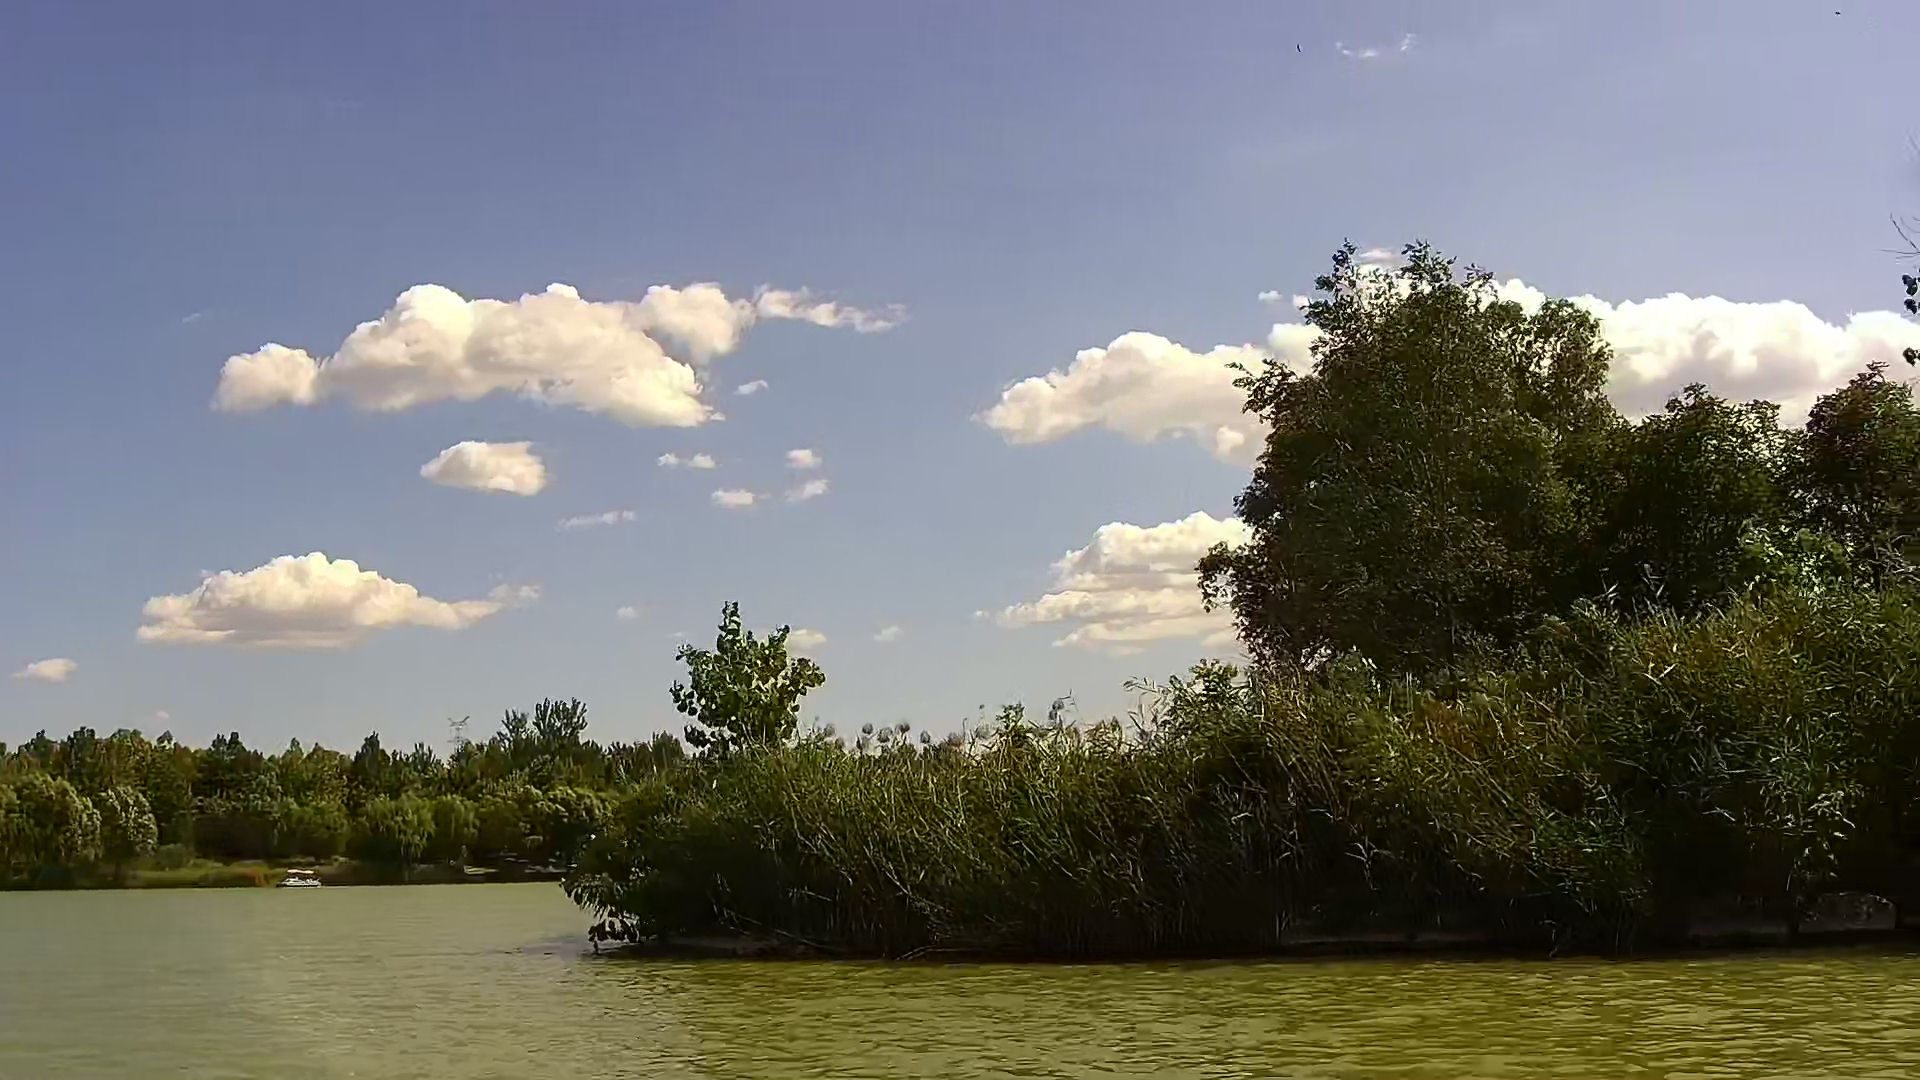boat: (278, 869, 320, 891)
